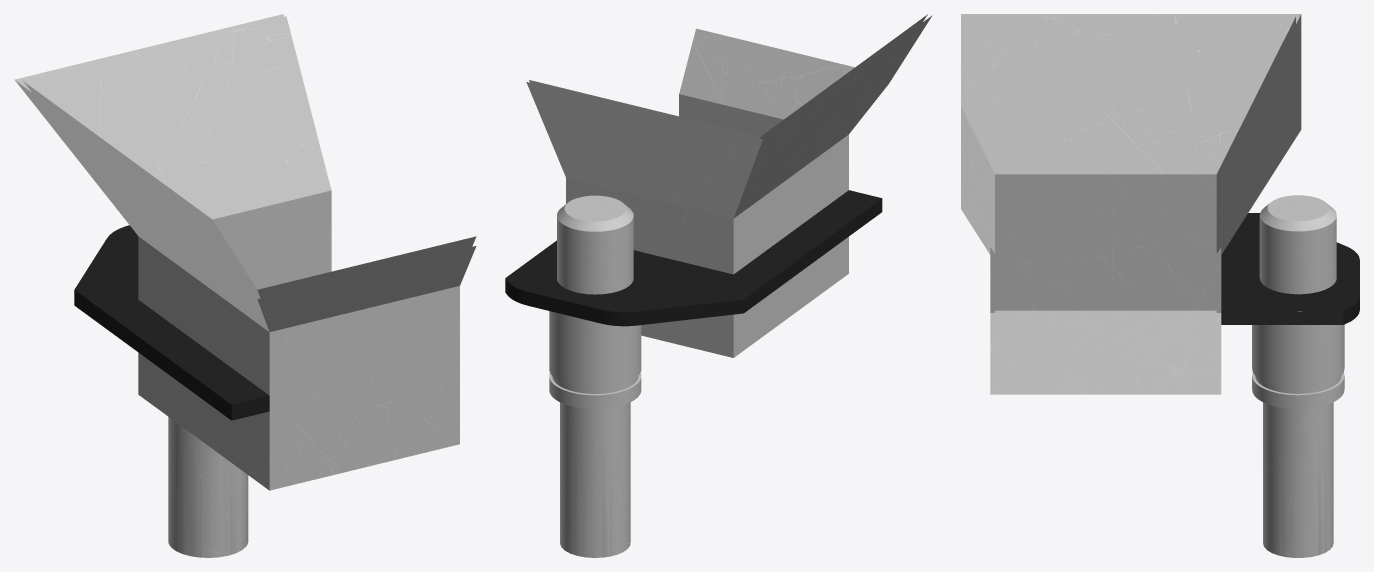
File: TightenerStation_Cube06.glb
The picture shows the model from 3 angles, left to right: view 1: azimuth 30°, elevation 25°; view 2: azimuth 150°, elevation 25°; view 3: azimuth 270°, elevation 25°; orthographic projection. The views are drawn at different scales.
Parts seen in each view (by area): view 1: color-2.006; view 2: color-2.006; view 3: color-2.006.
Part boxes in pixels (box(x1,y1,x2,y2)): color-2.006: box(14, 14, 476, 557); color-2.006: box(505, 14, 932, 557); color-2.006: box(961, 14, 1359, 557).
Size of the model in its own units: 0.1778 by 0.32 by 0.259.
2 materials, 2 textured.
